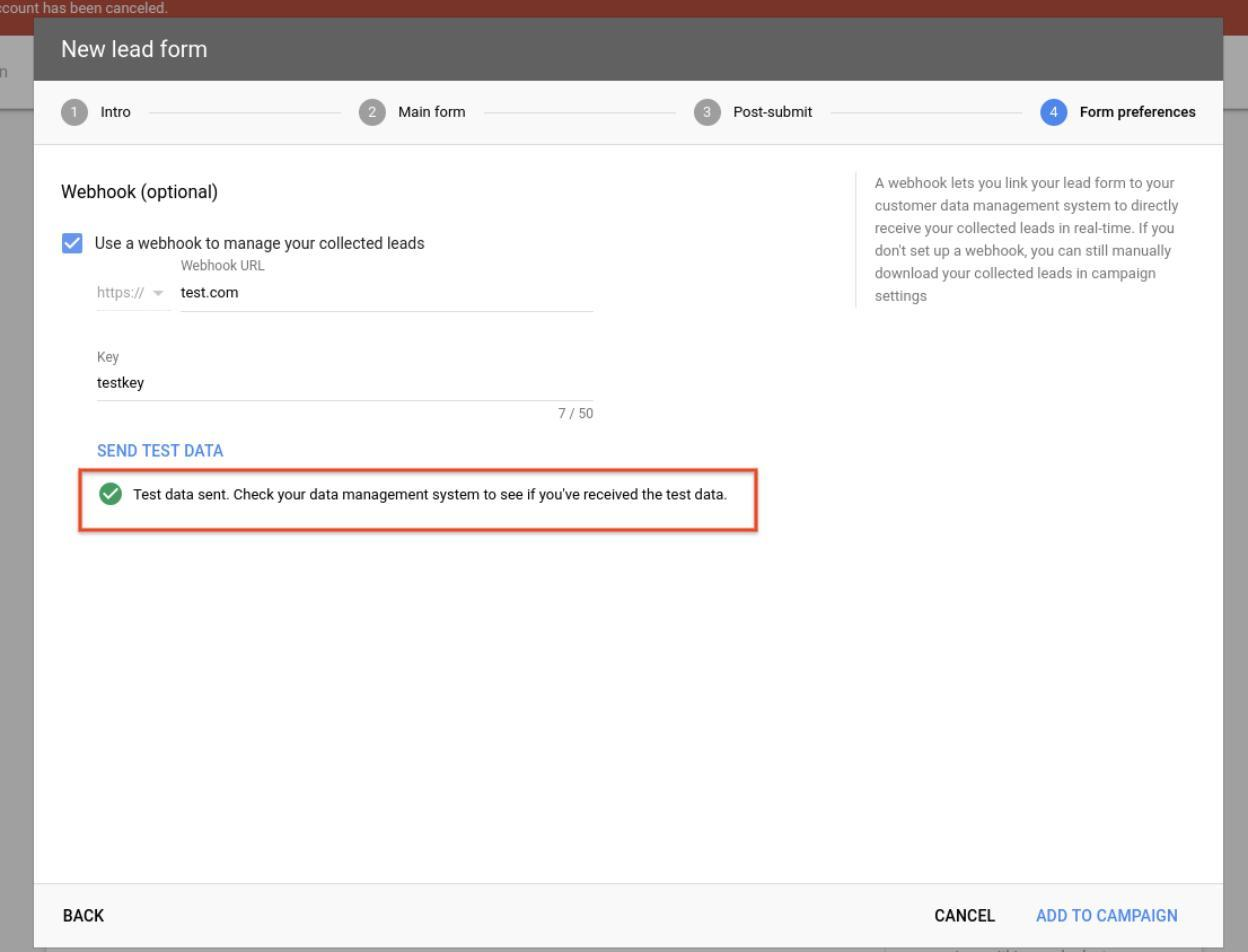checkbox: (62, 233, 85, 255)
label: (134, 487, 732, 504), (95, 233, 427, 253), (57, 183, 227, 206), (1036, 905, 1183, 927), (97, 442, 228, 462), (180, 258, 267, 277), (931, 903, 999, 926), (57, 905, 111, 928), (97, 350, 122, 366)
